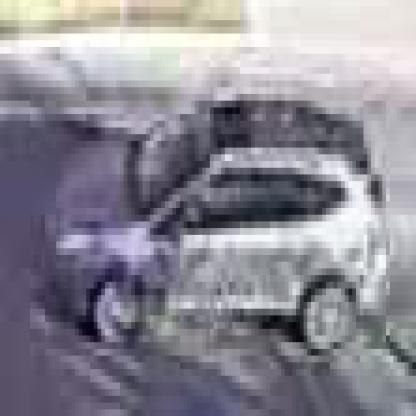car: (46, 75, 391, 363)
